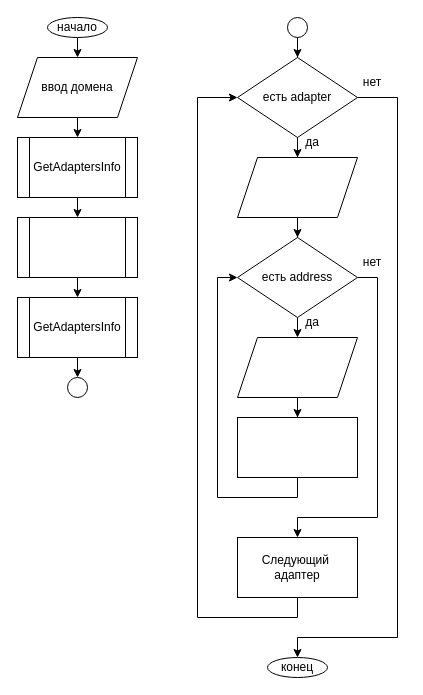
The diagram is 423 pixels wide and 695 high, and some of its shapes have lost their labels. The centre of each missing label's shape, as x and y in pixels:
"GlobalAlloc" goes at (77,247).
"вывод адаптера" goes at (297,187).
"вывод адреса" goes at (297,367).
"Следующий адрес" goes at (297,447).
